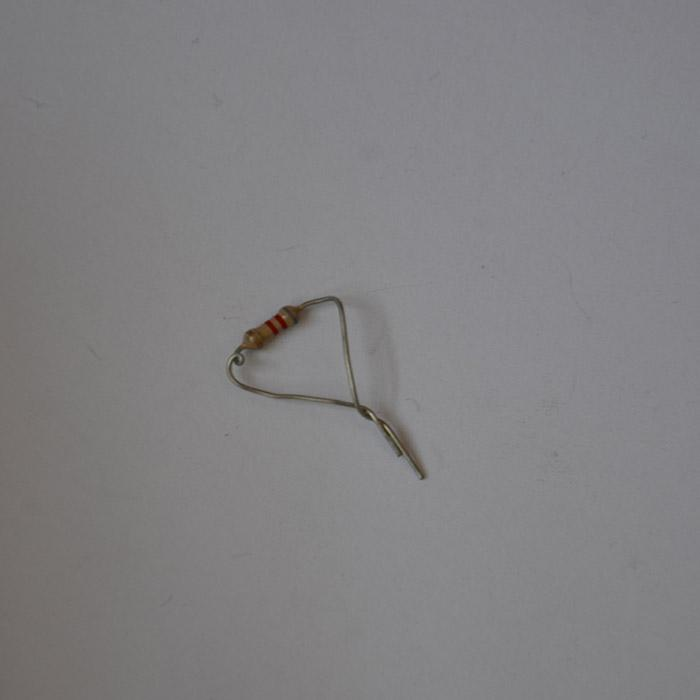resistor: (239, 304, 305, 353)
